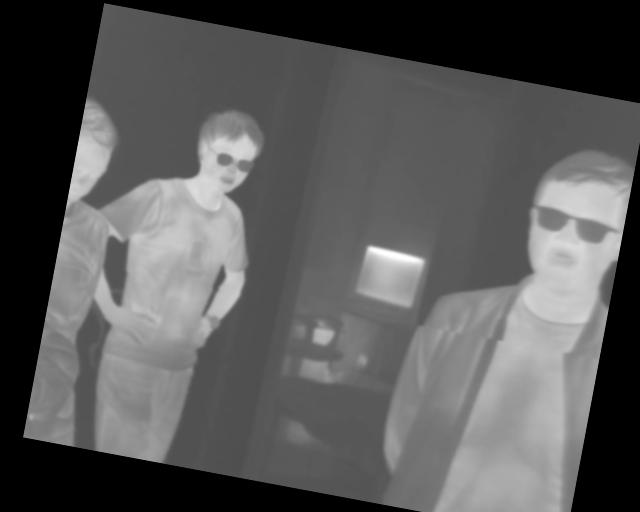face: (514, 138, 637, 298), (188, 102, 269, 199)
